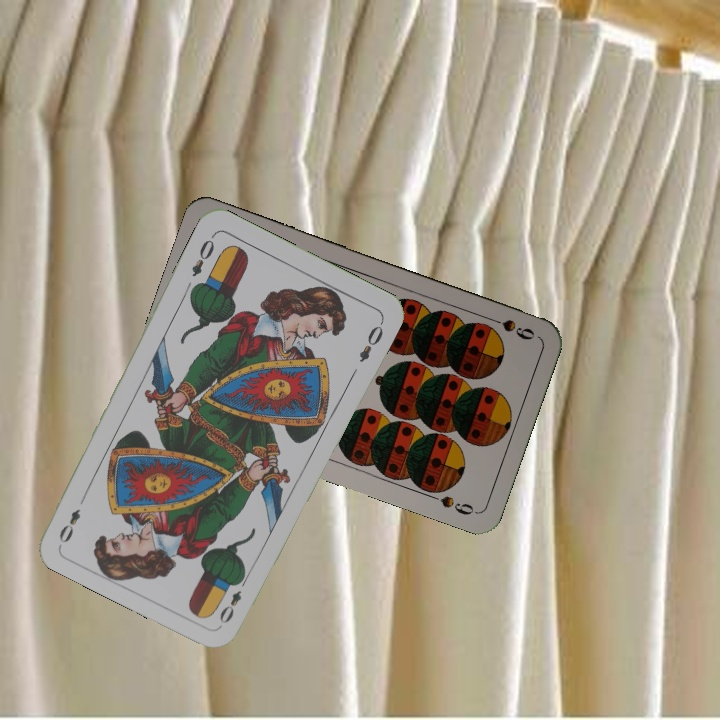EO: (215, 571, 251, 626), (187, 230, 217, 280)
S9: (481, 312, 538, 343)
